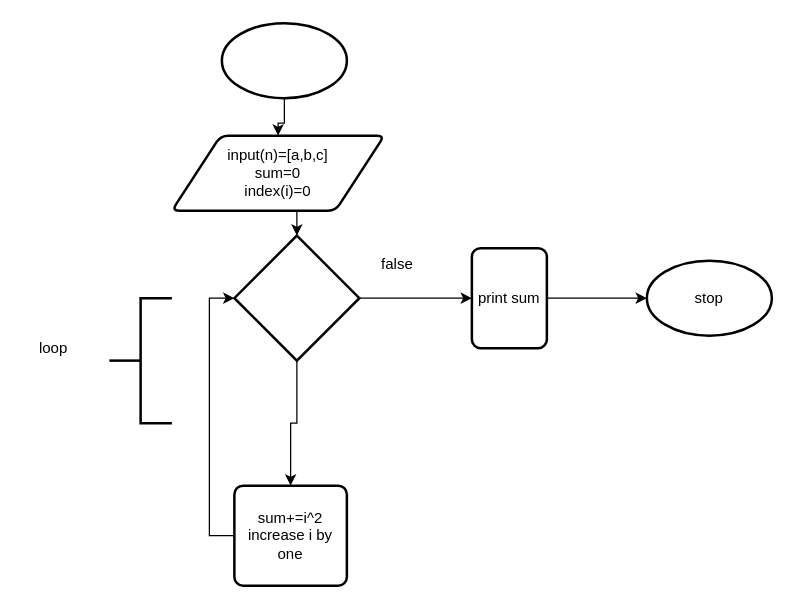
Some shapes in this 794 by 608 pixel diagram are drawn without their labels. Here are the shapes that lost their labels. From the top down, the centre of each, then its label:
At (x=284, y=60): "start".
At (x=296, y=297): "i<n.length".
